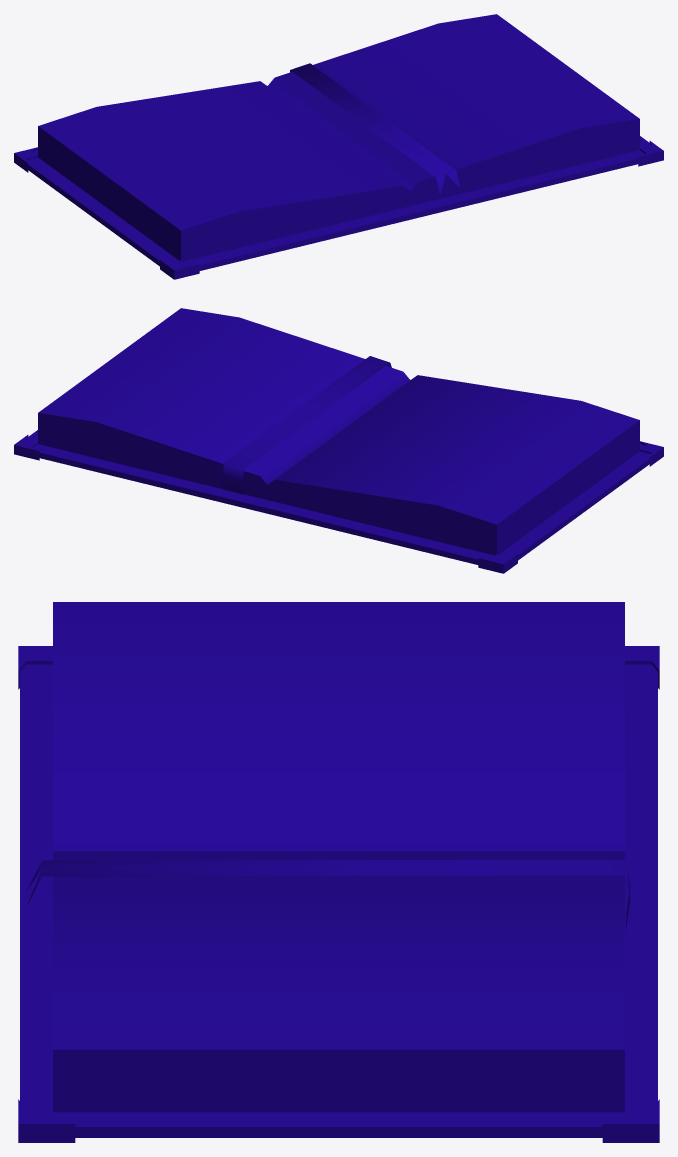
Rendered from CG_Model_TownInt_Book9_Mar24_ChrisMcknight.FBX.
3 views of the same model, one above another, from view 1: azimuth 30°, elevation 25°; view 2: azimuth 150°, elevation 25°; view 3: azimuth 270°, elevation 25° (orthographic). The views are drawn at different scales.
Parts seen in each view (by area): view 1: Book9; view 2: Book9; view 3: Book9.
Boxes of the visible parts, x1,y1,x2,y2 form: Book9: (14, 14, 663, 279); Book9: (14, 308, 663, 573); Book9: (18, 602, 659, 1142).
Size of the model in its own units: 12.03 by 1.03 by 6.82.
